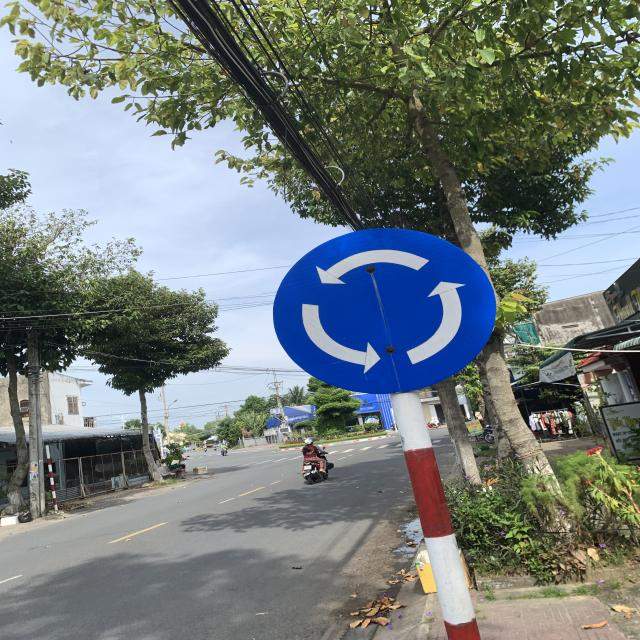Xe_Bus: (271, 229, 498, 394)
